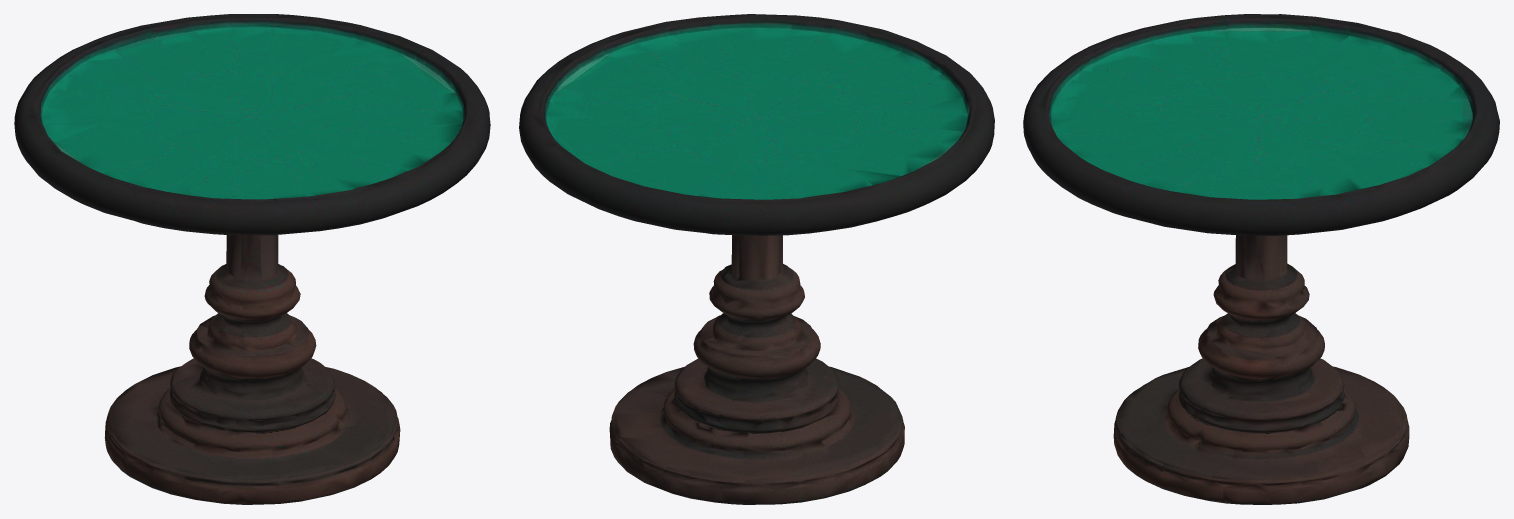
File: card-table.glb
3 views of the same model, side by side, from view 1: azimuth 30°, elevation 25°; view 2: azimuth 150°, elevation 25°; view 3: azimuth 270°, elevation 25° (orthographic).
Visible parts, largest first — view 1: mesh_node; view 2: mesh_node; view 3: mesh_node.
Part boxes in pixels (bbox=[...]): mesh_node: bbox=[14, 14, 490, 504]; mesh_node: bbox=[519, 14, 994, 504]; mesh_node: bbox=[1023, 14, 1499, 504].
Size of the model in its own units: 1.13 by 0.878 by 1.13.
1 material, 1 textured.
